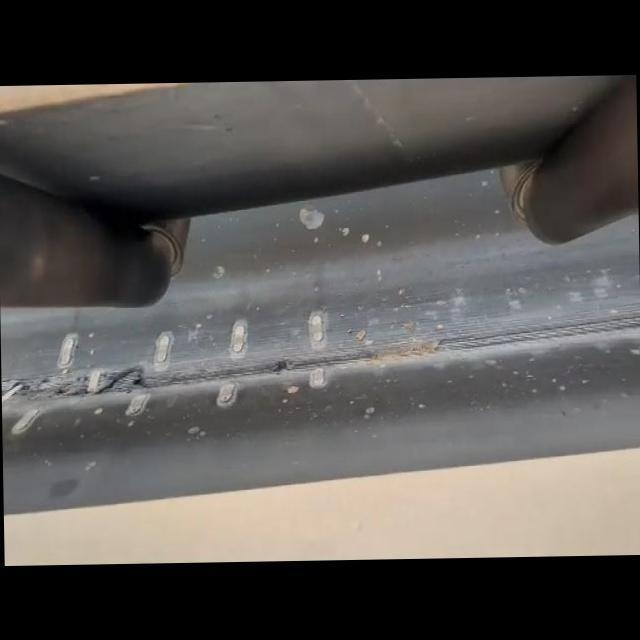Tear: (0, 364, 149, 404)
Wear: (145, 304, 640, 396)
